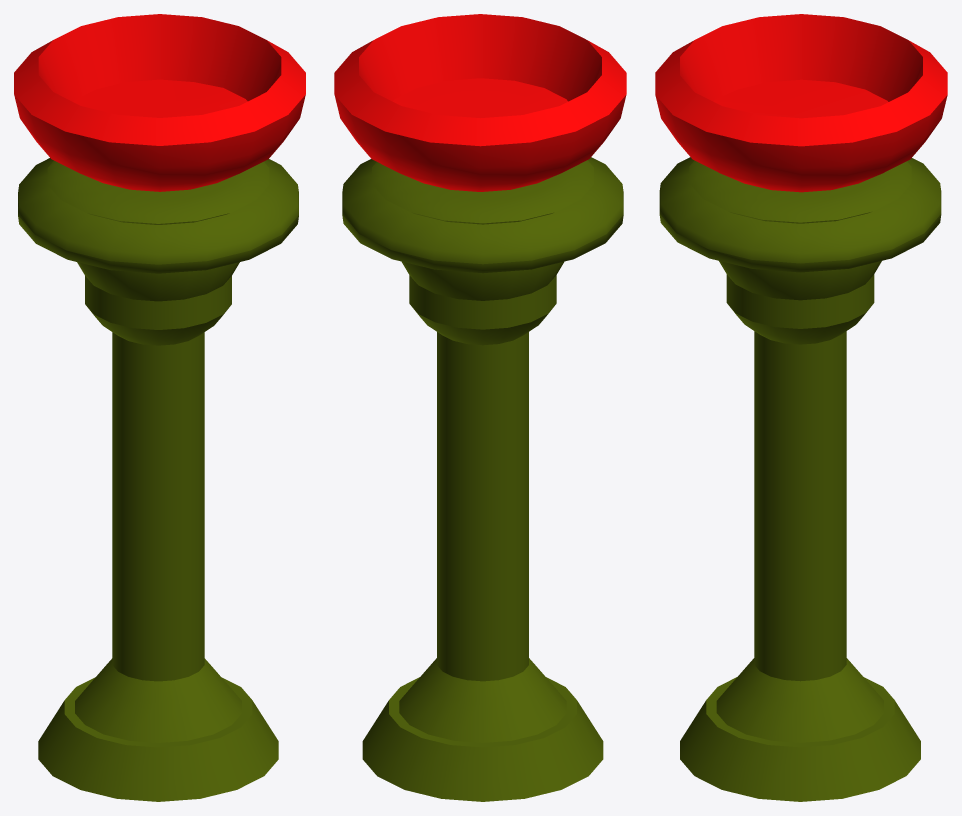
Rendered from 3D_ENV_BRAZIER.FBX.
3 views of the same model, side by side, from view 1: azimuth 30°, elevation 25°; view 2: azimuth 150°, elevation 25°; view 3: azimuth 270°, elevation 25° (orthographic).
Visible parts, largest first — view 1: Standard, Schaal; view 2: Standard, Schaal; view 3: Standard, Schaal.
Boxes of the visible parts, x1=… form: Standard: x1=18, y1=158, x2=298, y2=801; Schaal: x1=14, y1=14, x2=305, y2=191; Standard: x1=342, y1=157, x2=623, y2=801; Schaal: x1=334, y1=14, x2=626, y2=191; Standard: x1=659, y1=157, x2=941, y2=801; Schaal: x1=655, y1=14, x2=947, y2=192.
Size of the model in its own units: 58.23 by 148 by 57.35.
